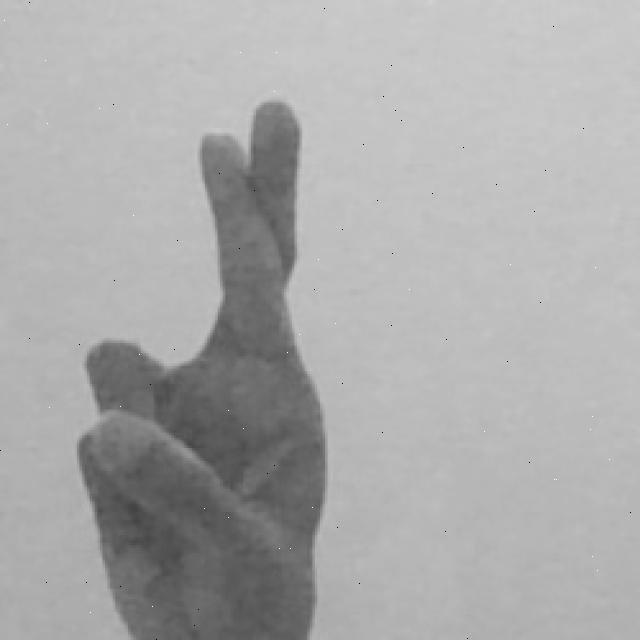R: (73, 94, 334, 640)
